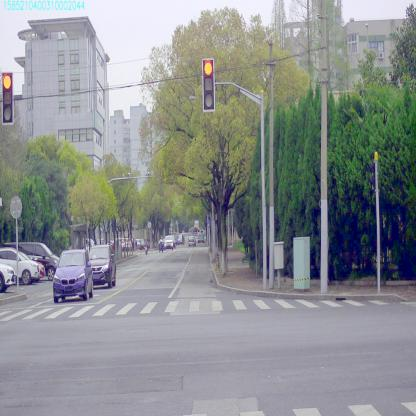traffic-light: (203, 58, 214, 111), (2, 72, 13, 122)
